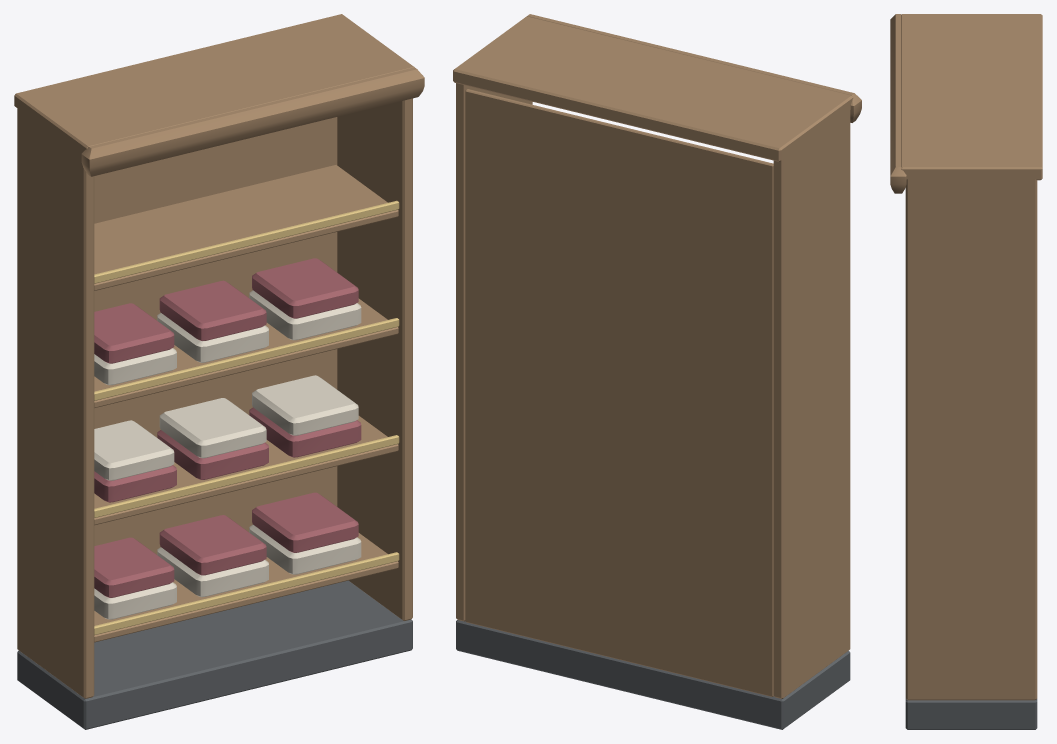
Rendered from bar-pub-and-brewery-taproom-taproom-merchandise-shelf-8fe6fa5c__18407.glb.
3 views of the same model, side by side, from view 1: azimuth 30°, elevation 25°; view 2: azimuth 150°, elevation 25°; view 3: azimuth 270°, elevation 25° (orthographic). The views are drawn at different scales.
Parts seen in each view (by area): view 1: taproom-merchandise-shelf; view 2: taproom-merchandise-shelf; view 3: taproom-merchandise-shelf.
Part boxes in pixels (<box>): taproom-merchandise-shelf: <box>14,14,424,729</box>; taproom-merchandise-shelf: <box>453,14,861,729</box>; taproom-merchandise-shelf: <box>890,14,1042,729</box>.
Size of the model in its own units: 1.02 by 1.7 by 0.4175.
